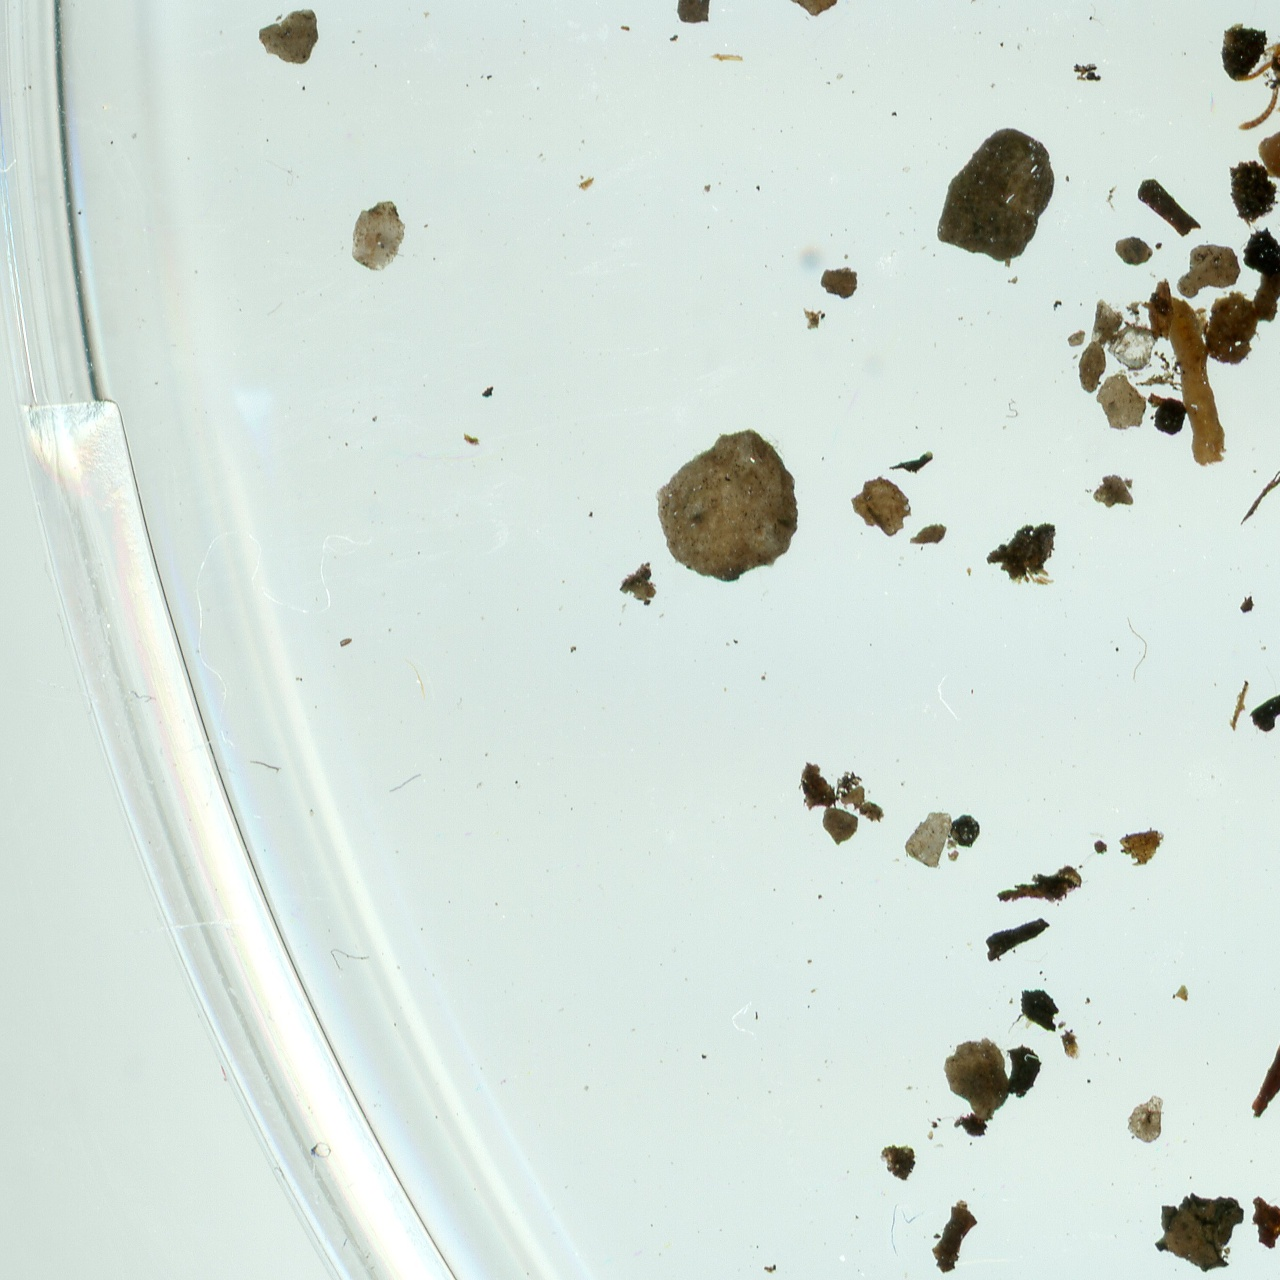arthropod: (1231, 0, 1280, 163)
